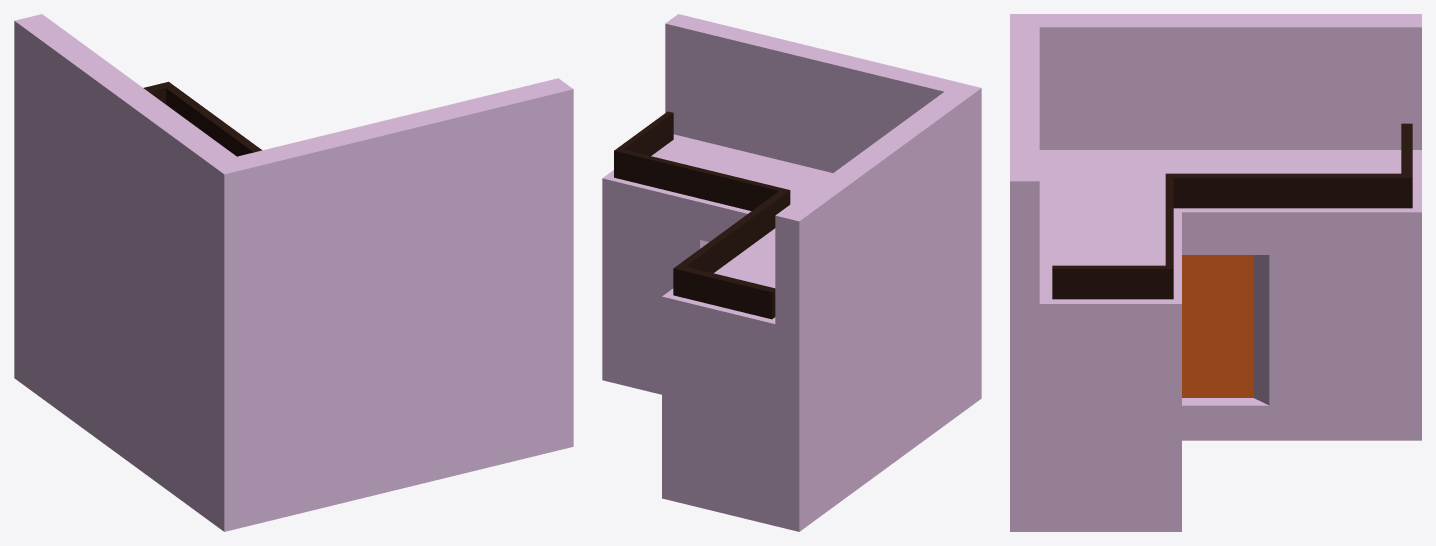
The model's file is Street_Cor.fbx.
3 renders of one model, left to right at view 1: azimuth 30°, elevation 25°; view 2: azimuth 150°, elevation 25°; view 3: azimuth 270°, elevation 25°, orthographic. The views are drawn at different scales.
Visible parts, largest first — view 1: Block_Cor; view 2: Block_Cor; view 3: Block_Cor.
Part boxes in pixels (bbox=[...]): Block_Cor: bbox=[14, 14, 573, 531]; Block_Cor: bbox=[602, 14, 981, 531]; Block_Cor: bbox=[1010, 14, 1421, 531].
Size of the model in its own units: 1490 by 1458 by 1552.
